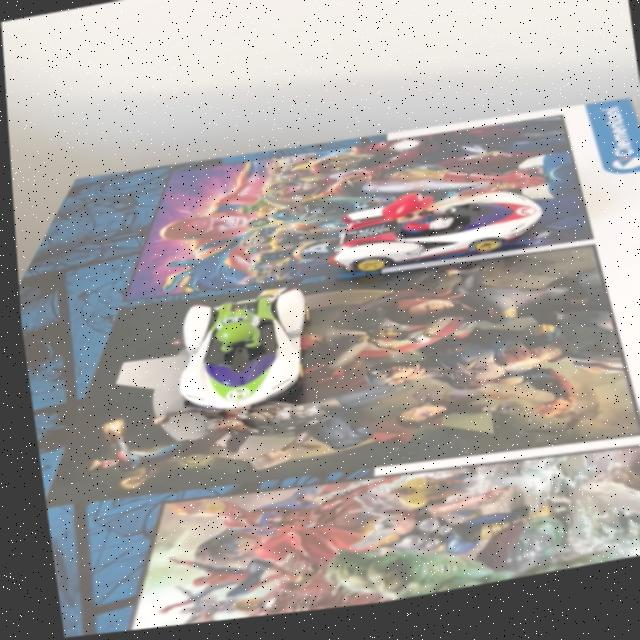mario: (316, 176, 557, 294)
yoshi: (144, 281, 320, 434)
